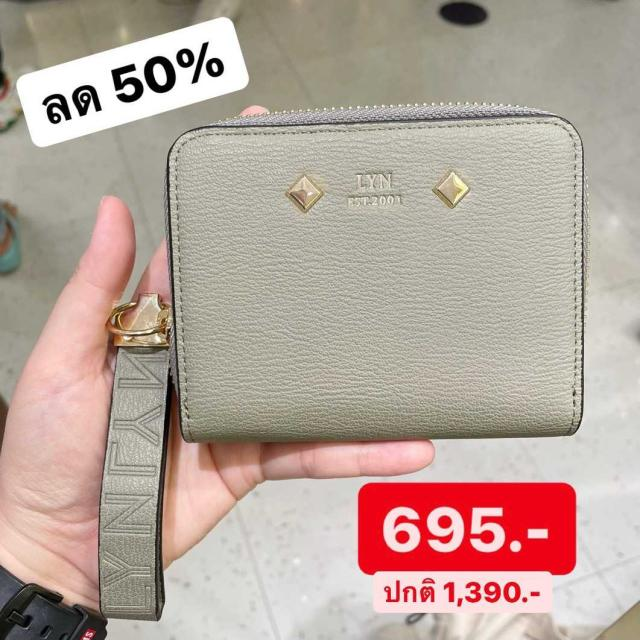Handbag: (168, 104, 618, 454)
